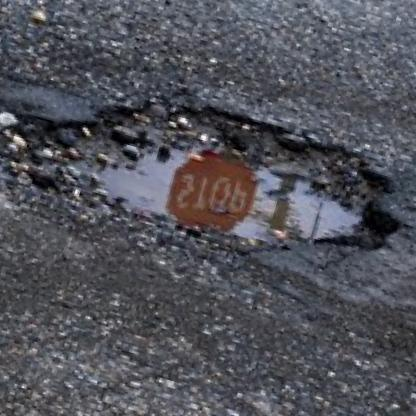pothole: (46, 66, 416, 298)
